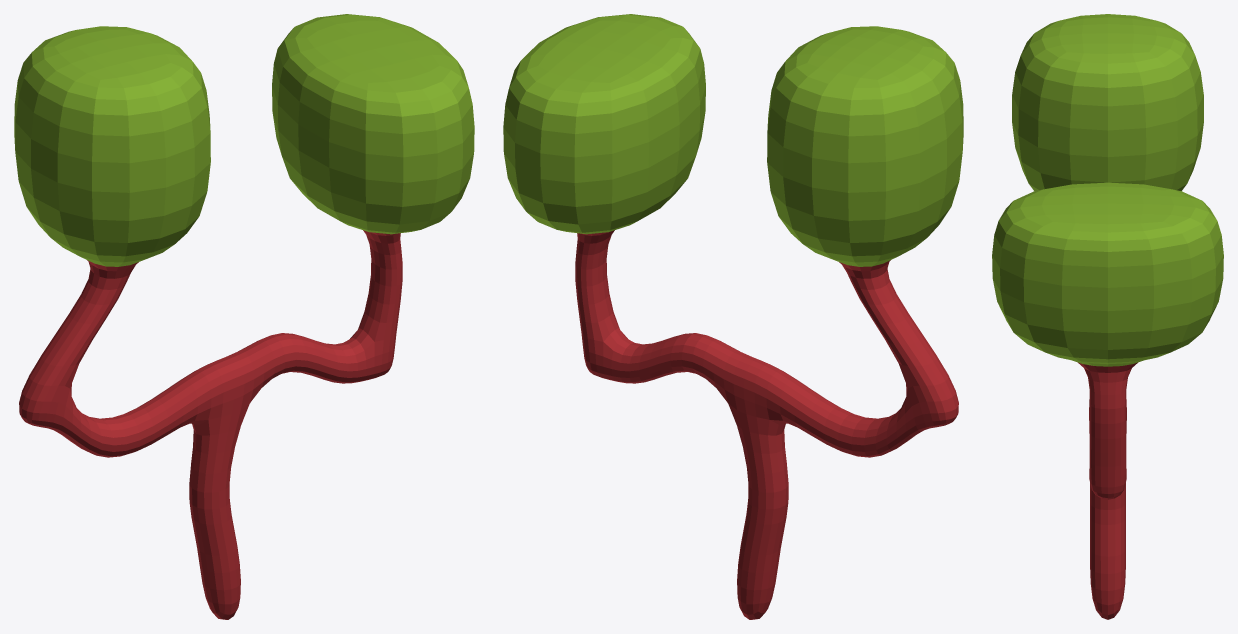
Rendered from tree_4.glb.
3 renders of one model, left to right at view 1: azimuth 30°, elevation 25°; view 2: azimuth 150°, elevation 25°; view 3: azimuth 270°, elevation 25°, orthographic. The views are drawn at different scales.
Parts seen in each view (by area): view 1: Cube; view 2: Cube; view 3: Cube.
Boxes of the visible parts, x1,y1,x2,y2 form: Cube: [14, 14, 474, 619]; Cube: [503, 14, 963, 619]; Cube: [992, 14, 1223, 619].
Size of the model in its own units: 22.51 by 30.1 by 11.78.
